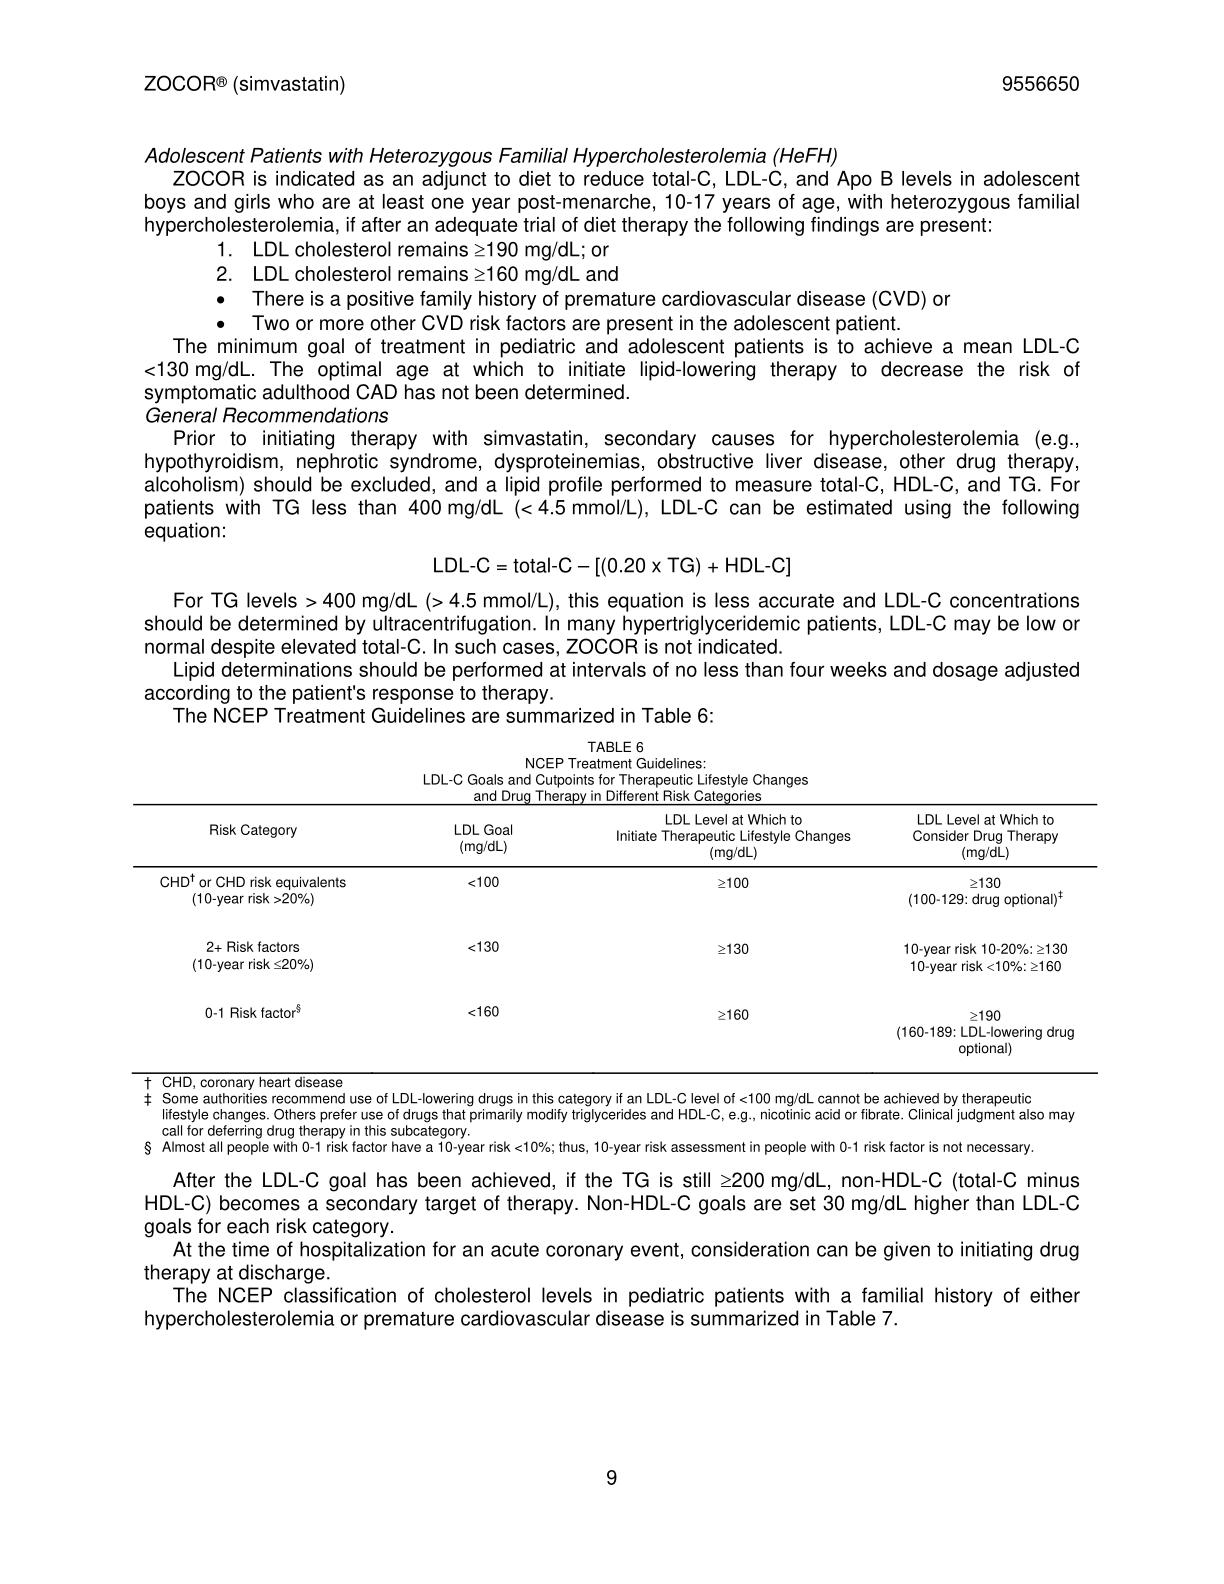partial_lined: (129, 801, 1103, 1077)
